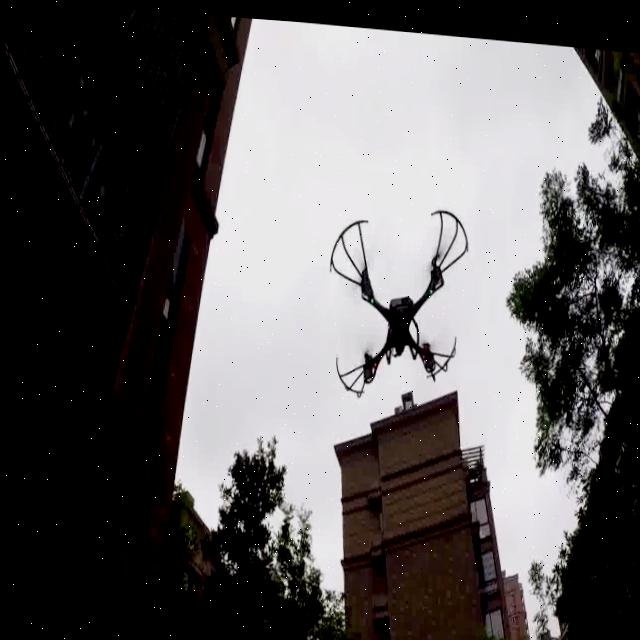drone: (308, 176, 484, 426)
